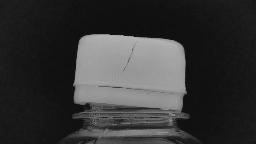Broken Cap: (64, 30, 196, 122)
